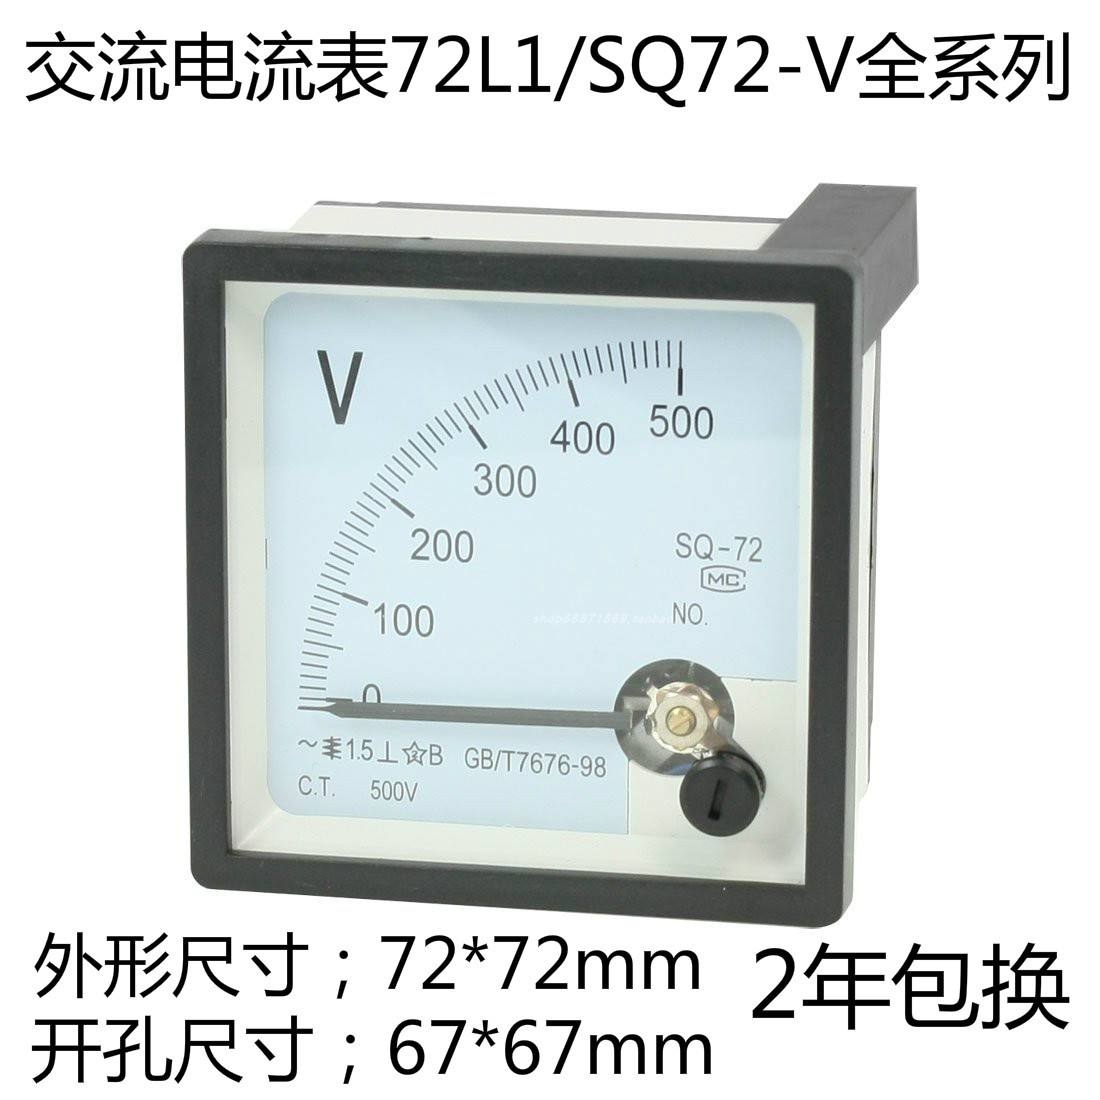pointer: (200, 255, 813, 895)
